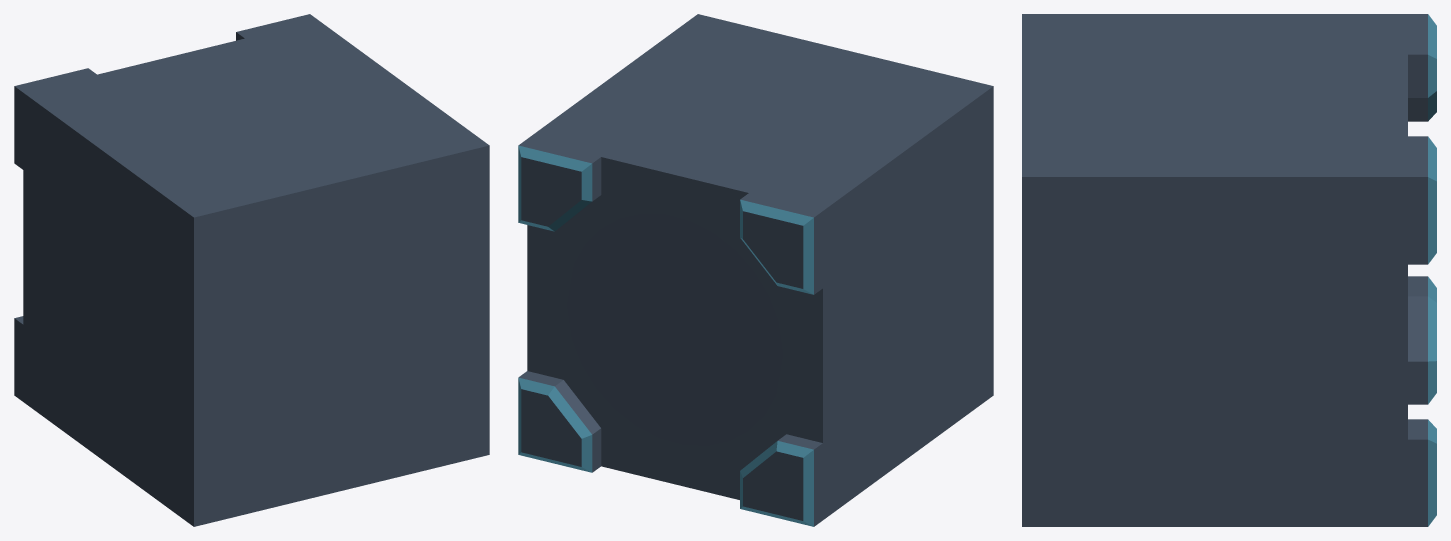
The model's file is Box_Four.fbx.
3 renders of one model, left to right at view 1: azimuth 30°, elevation 25°; view 2: azimuth 150°, elevation 25°; view 3: azimuth 270°, elevation 25°, orthographic. The views are drawn at different scales.
Visible parts, largest first — view 1: Cube, Cube.001; view 2: Cube, Cube.001; view 3: Cube, Cube.001.
Part boxes in pixels (x1,y1,x2,y2): Cube: [23, 38, 489, 526]; Cube.001: [14, 14, 348, 401]; Cube: [527, 14, 993, 502]; Cube.001: [518, 117, 852, 526]; Cube: [1022, 14, 1407, 526]; Cube.001: [1340, 14, 1436, 526].
Size of the model in its own units: 200 by 200 by 215.
